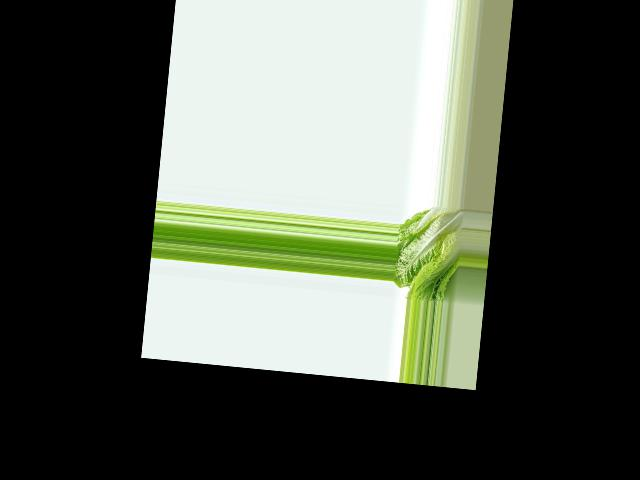lettuce: (392, 203, 464, 304)
